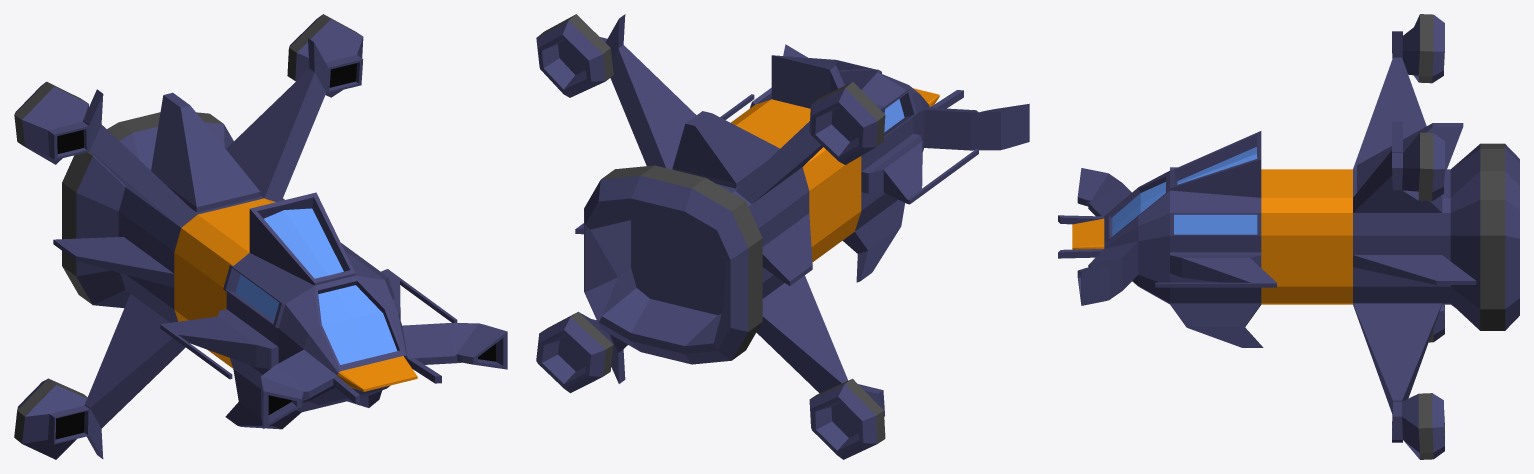
Rendered from CelestialEnigma412.fbx.
3 views of the same model, side by side, from view 1: azimuth 30°, elevation 25°; view 2: azimuth 150°, elevation 25°; view 3: azimuth 270°, elevation 25° (orthographic). The views are drawn at different scales.
Visible parts, largest first — view 1: CelestialEnigma412; view 2: CelestialEnigma412; view 3: CelestialEnigma412.
Part boxes in pixels (left/top/right/bottom): CelestialEnigma412: left=14, top=14, right=507, bottom=459; CelestialEnigma412: left=536, top=14, right=1029, bottom=459; CelestialEnigma412: left=1058, top=14, right=1519, bottom=459.
Size of the model in its own units: 19.87 by 20.78 by 26.5.
